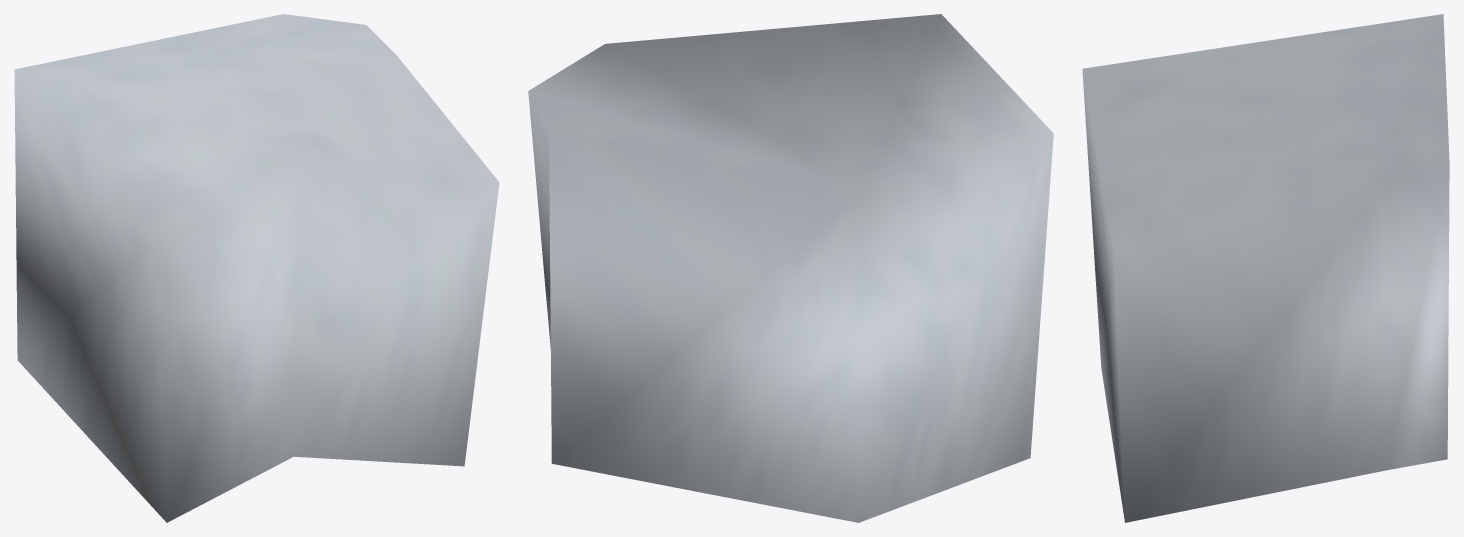
The model's file is Rock_8_Snow.fbx.
The picture shows the model from 3 angles, left to right: view 1: azimuth 30°, elevation 25°; view 2: azimuth 150°, elevation 25°; view 3: azimuth 270°, elevation 25°; orthographic projection. The views are drawn at different scales.
Visible parts, largest first — view 1: Rock_8_Snow; view 2: Rock_8_Snow; view 3: Rock_8_Snow.
Boxes of the visible parts, left/top/right/bottom form: Rock_8_Snow: left=14, top=14, right=499, bottom=522; Rock_8_Snow: left=528, top=14, right=1053, bottom=522; Rock_8_Snow: left=1082, top=14, right=1449, bottom=522.
Bounding box in the file's own units: 32.83 × 32.95 × 30.27.
